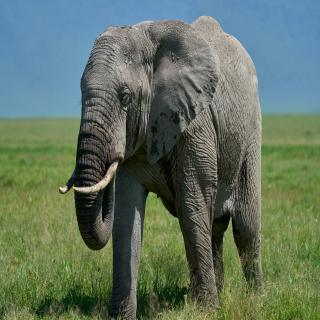Elephant: (58, 10, 274, 320)
